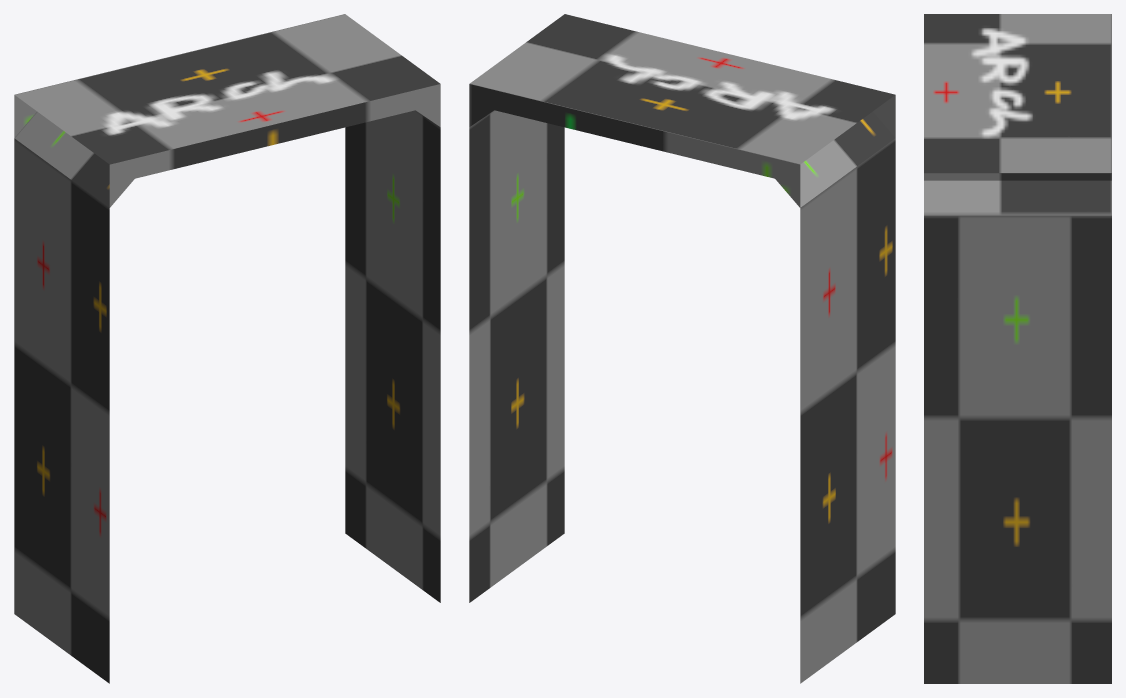
File: Arch1x2x3Test.fbx
The picture shows the model from 3 angles, left to right: view 1: azimuth 30°, elevation 25°; view 2: azimuth 150°, elevation 25°; view 3: azimuth 270°, elevation 25°; orthographic projection.
Visible parts, largest first — view 1: Arch1x2x3_test; view 2: Arch1x2x3_test; view 3: Arch1x2x3_test.
Boxes of the visible parts, x1=… form: Arch1x2x3_test: x1=14, y1=14, x2=440, y2=683; Arch1x2x3_test: x1=469, y1=14, x2=895, y2=683; Arch1x2x3_test: x1=924, y1=14, x2=1111, y2=683.
Bounding box in the file's own units: 2 × 1 × 3.
Materials: 1 (1 with a texture image).
